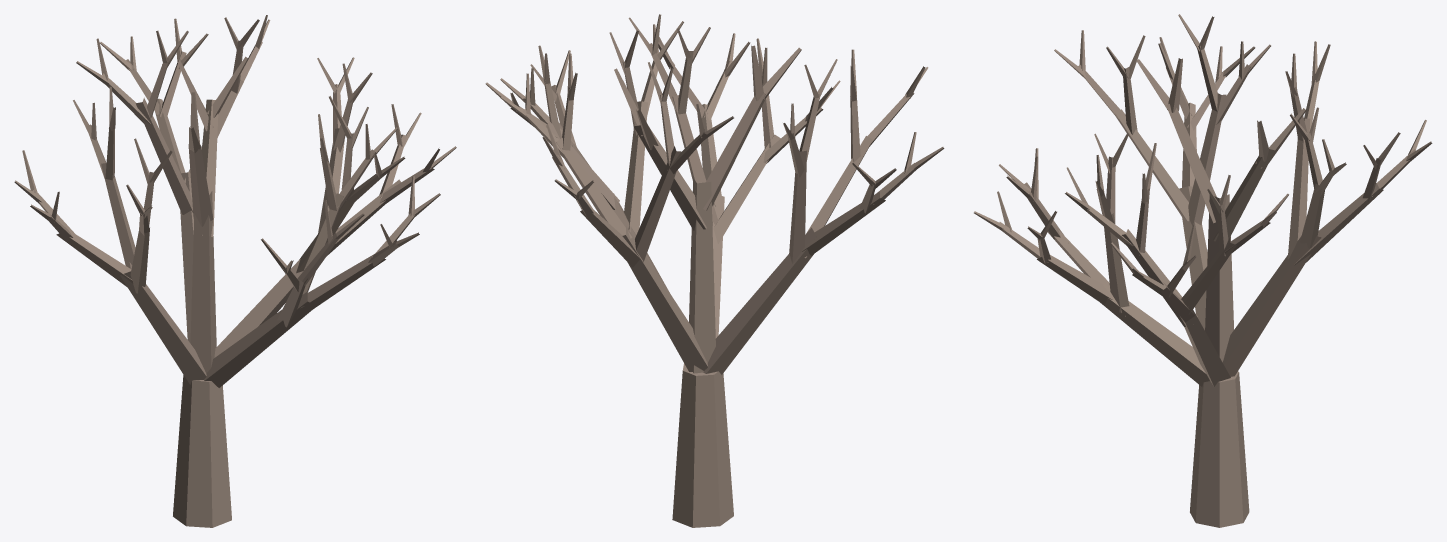
File: tree-blossom-a-bare.glb
3 views of the same model, side by side, from view 1: azimuth 30°, elevation 25°; view 2: azimuth 150°, elevation 25°; view 3: azimuth 270°, elevation 25° (orthographic). The views are drawn at different scales.
Visible parts, largest first — view 1: tree-blossom-a-bare; view 2: tree-blossom-a-bare; view 3: tree-blossom-a-bare.
Boxes of the visible parts, x1,y1,x2,y2 form: tree-blossom-a-bare: [14, 15, 456, 527]; tree-blossom-a-bare: [485, 14, 944, 527]; tree-blossom-a-bare: [974, 14, 1432, 527].
Size of the model in its own units: 1.02 by 1.09 by 0.9932.
